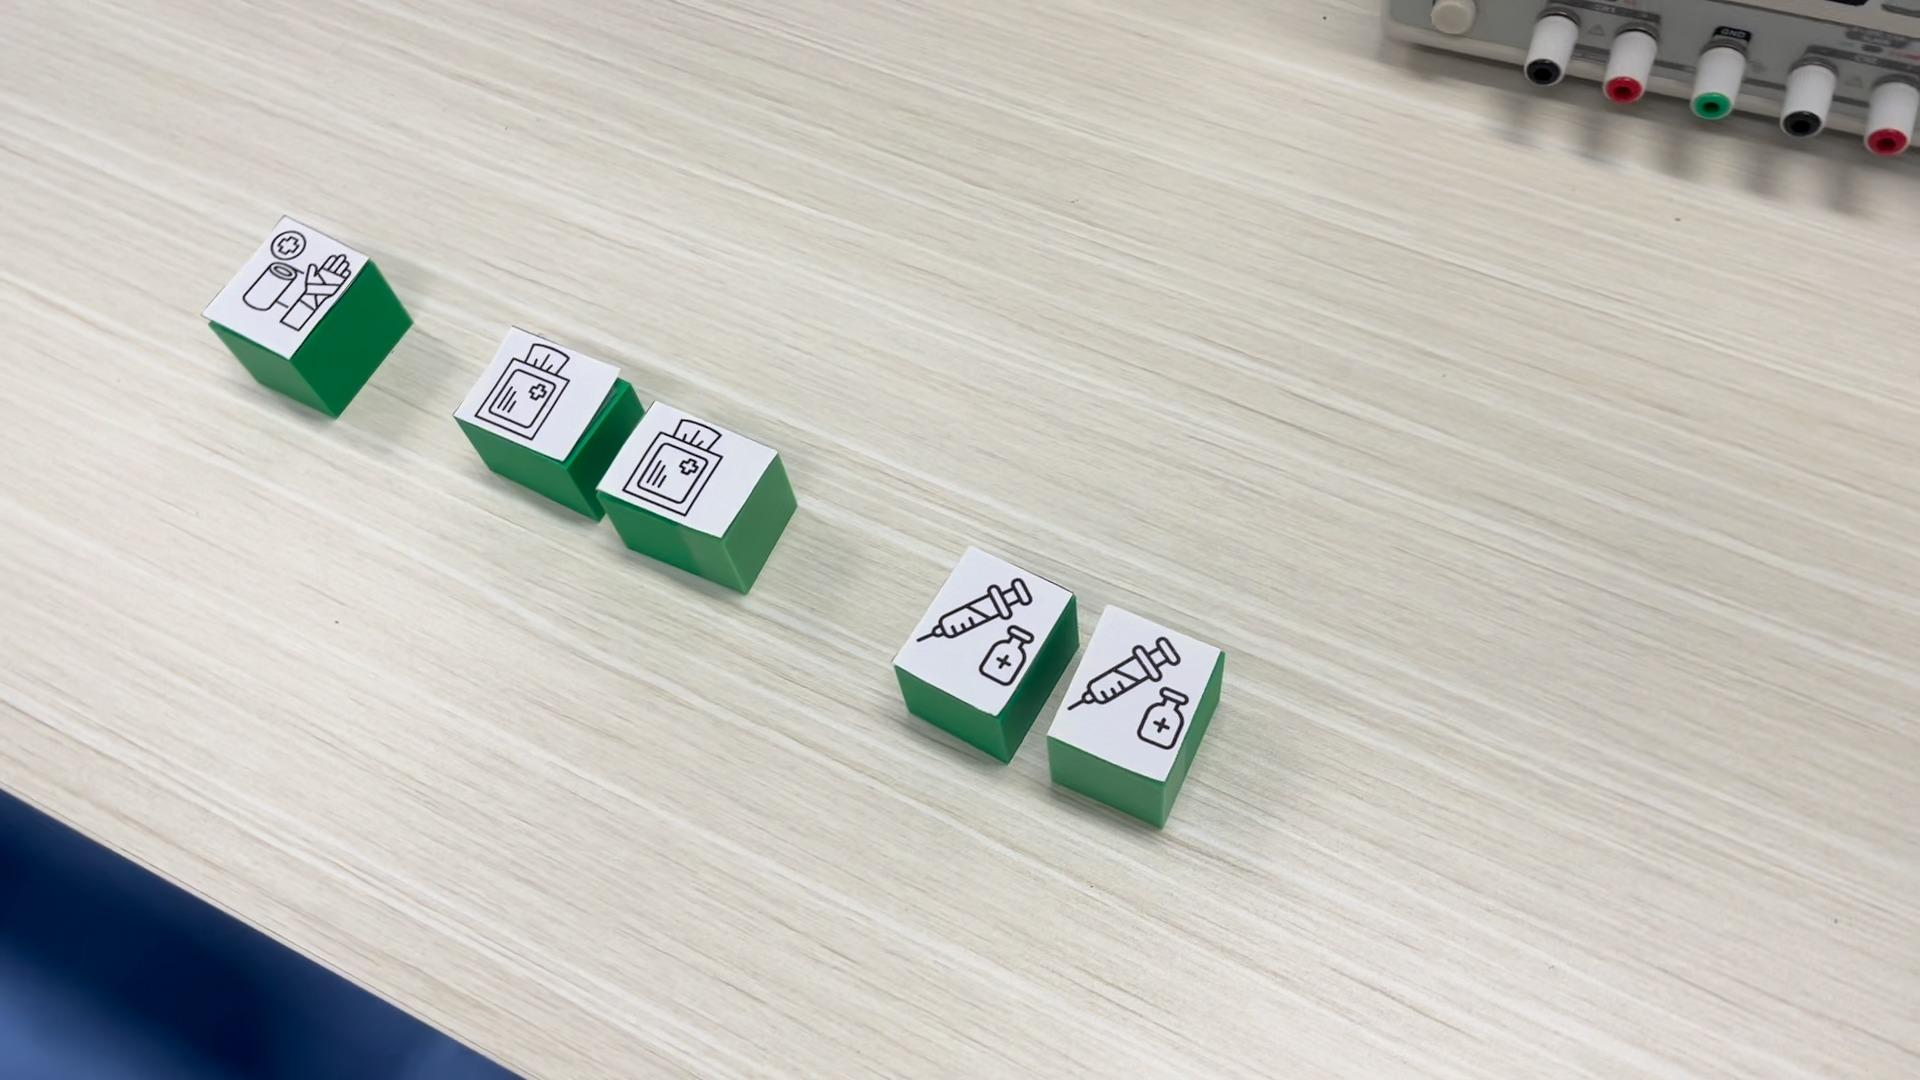Bandages: (200, 215, 414, 418)
Gauze: (596, 400, 798, 595), (454, 324, 644, 514)
antiseptic cream: (1047, 588, 1226, 828), (890, 542, 1080, 720)
